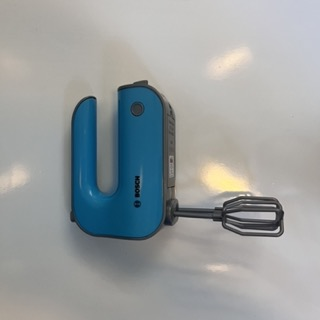mixer: (68, 81, 284, 239)
